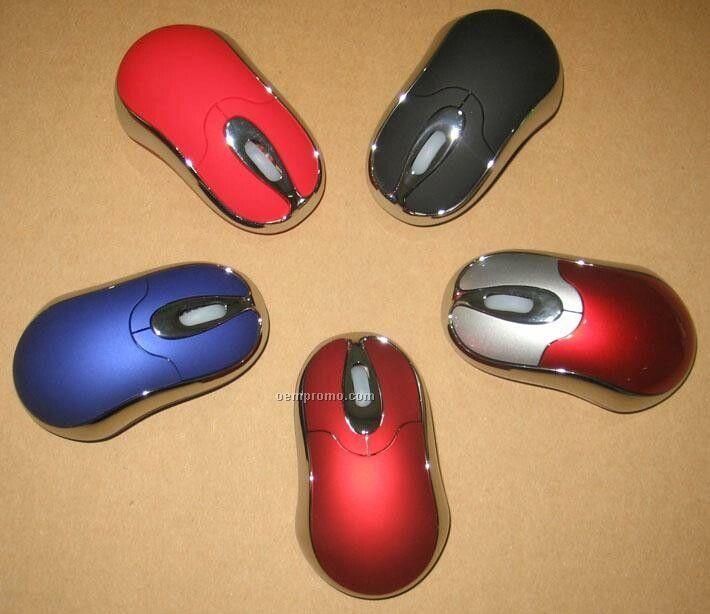computer mouse: (10, 262, 271, 445), (367, 11, 565, 227)
